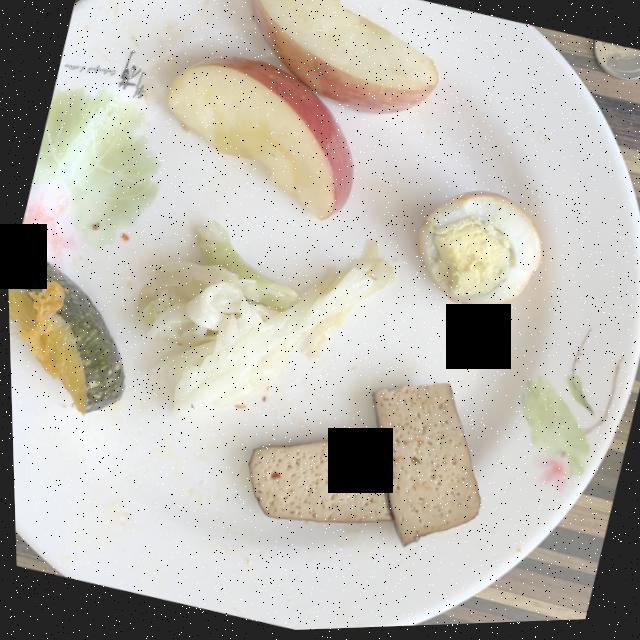apple -sliced-: (165, 0, 436, 222)
cabbage: (134, 223, 391, 421)
coin: (592, 44, 640, 85)
firm tofu: (244, 386, 476, 549)
pumpkin: (6, 248, 121, 415)
soy egg: (415, 194, 539, 312)
